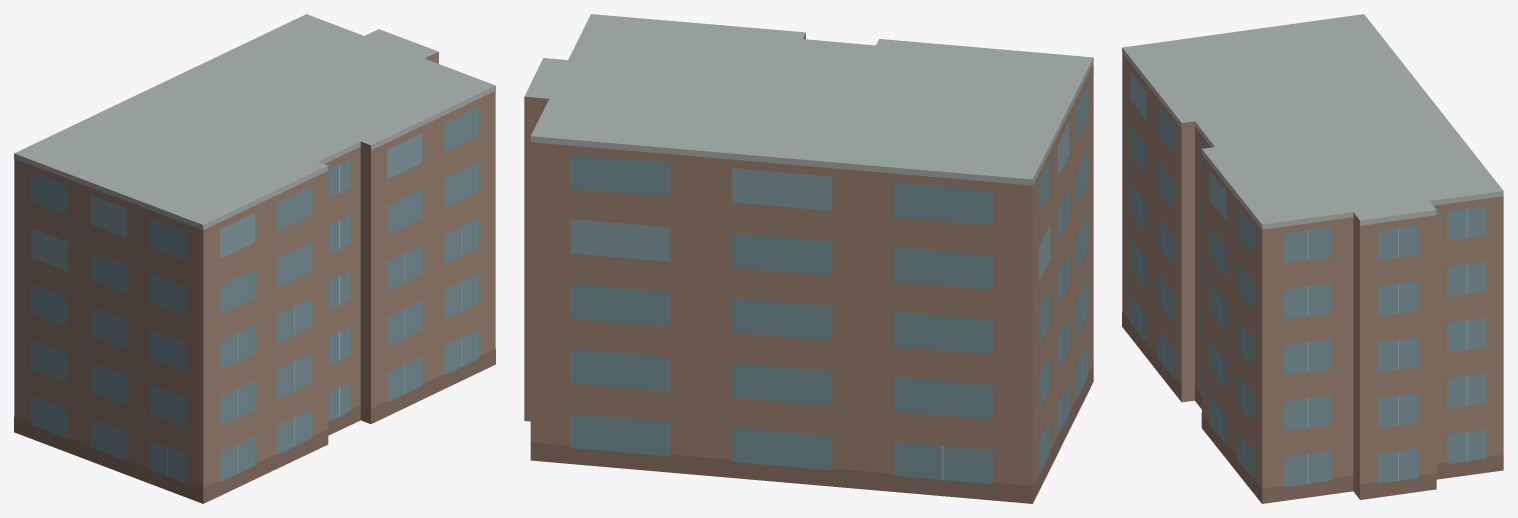
The model's file is survey-upis-32951282.glb.
3 renders of one model, left to right at view 1: azimuth 30°, elevation 25°; view 2: azimuth 150°, elevation 25°; view 3: azimuth 270°, elevation 25°, orthographic. The views are drawn at different scales.
Parts seen in each view (by area): view 1: survey-upis-32951282.tmp; view 2: survey-upis-32951282.tmp; view 3: survey-upis-32951282.tmp.
Boxes of the visible parts, box(x1,y1,x2,y2) form: survey-upis-32951282.tmp: box(14, 14, 495, 503); survey-upis-32951282.tmp: box(524, 14, 1093, 503); survey-upis-32951282.tmp: box(1122, 14, 1503, 503).
Size of the model in its own units: 21.35 by 13.2 by 16.35.
